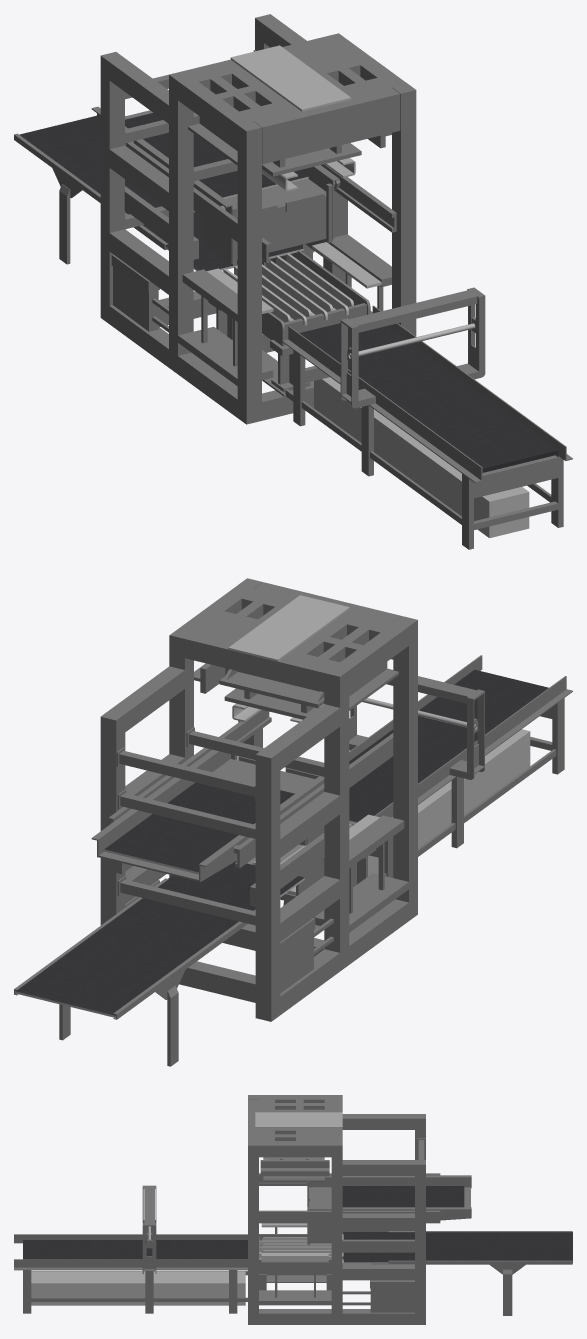
File: ScanTunnel.glb
3 views of the same model, one above another, from view 1: azimuth 30°, elevation 25°; view 2: azimuth 150°, elevation 25°; view 3: azimuth 270°, elevation 25° (orthographic). The views are drawn at different scales.
Visible parts, largest first — view 1: Scan_tunnel; view 2: Scan_tunnel; view 3: Scan_tunnel.
Part boxes in pixels (x1,y1,x2,y2): Scan_tunnel: (14,14,572,549); Scan_tunnel: (14,578,572,1066); Scan_tunnel: (14,1095,572,1324).
Bounding box in the file's own units: 2.63 × 4.38 × 12.29.
Materials: 3 (1 with a texture image).
